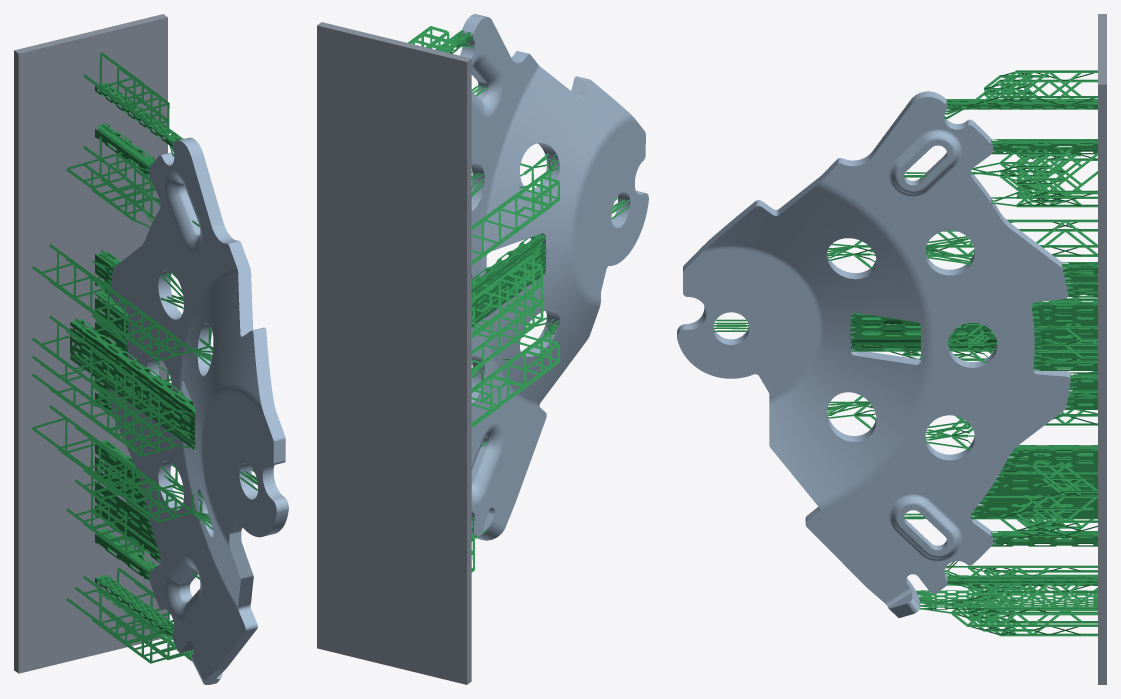
Rendered from part_with_reference_support_and_platform.obj.
The picture shows the model from 3 angles, left to right: view 1: azimuth 30°, elevation 25°; view 2: azimuth 150°, elevation 25°; view 3: azimuth 270°, elevation 25°; orthographic projection. The views are drawn at different scales.
Parts seen in each view (by area): view 1: BuildPlate, Part, ReferenceSupport; view 2: BuildPlate, Part, ReferenceSupport; view 3: Part, ReferenceSupport, BuildPlate.
Part boxes in pixels (x1,y1,x2,y2): BuildPlate: (14,14,167,673); Part: (109,137,288,684); ReferenceSupport: (32,52,257,663); BuildPlate: (317,22,471,684); Part: (460,14,648,540); ReferenceSupport: (407,26,629,572); Part: (677,91,1070,617); ReferenceSupport: (713,70,1097,636); BuildPlate: (1098,14,1106,684).
Bounding box in the file's own units: 37.01 × 147 × 95.25.
